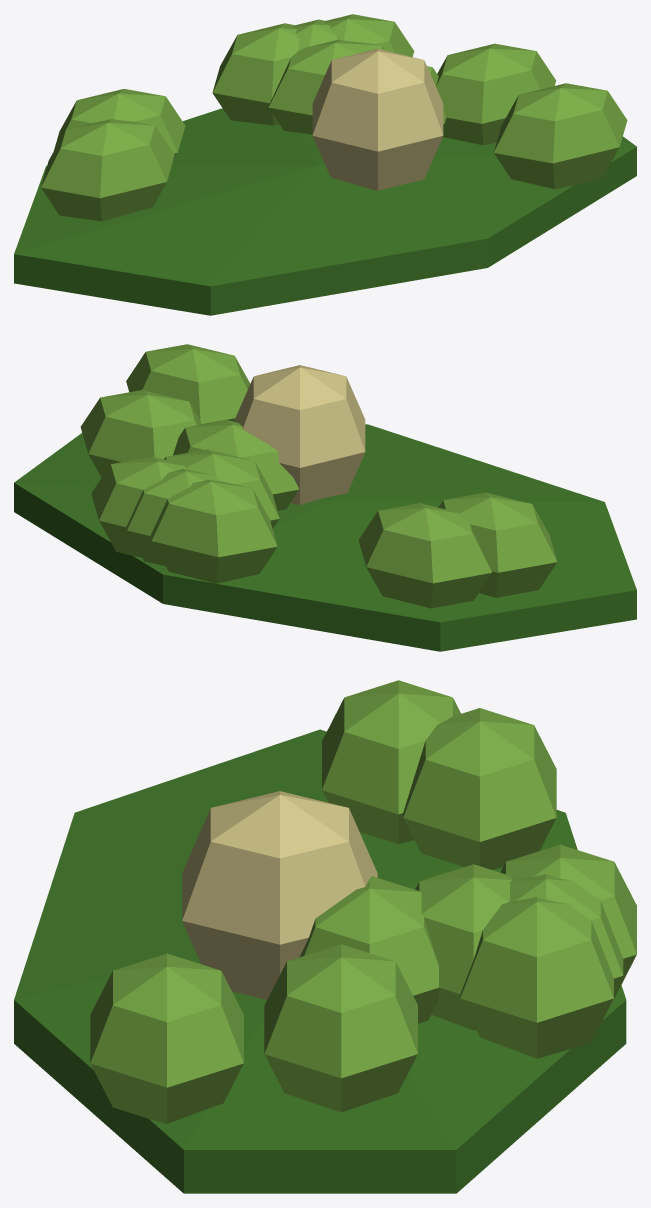
The model's file is food-aphids.glb.
The picture shows the model from 3 angles, top to bottom: view 1: azimuth 30°, elevation 25°; view 2: azimuth 150°, elevation 25°; view 3: azimuth 270°, elevation 25°; orthographic projection. The views are drawn at different scales.
Size of the model in its own units: 2.47 by 0.7 by 1.55.
